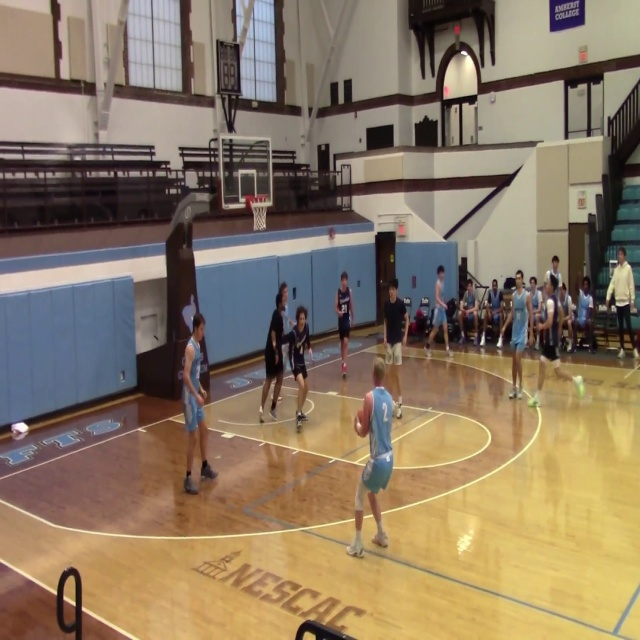Basketball: (354, 409, 369, 437)
